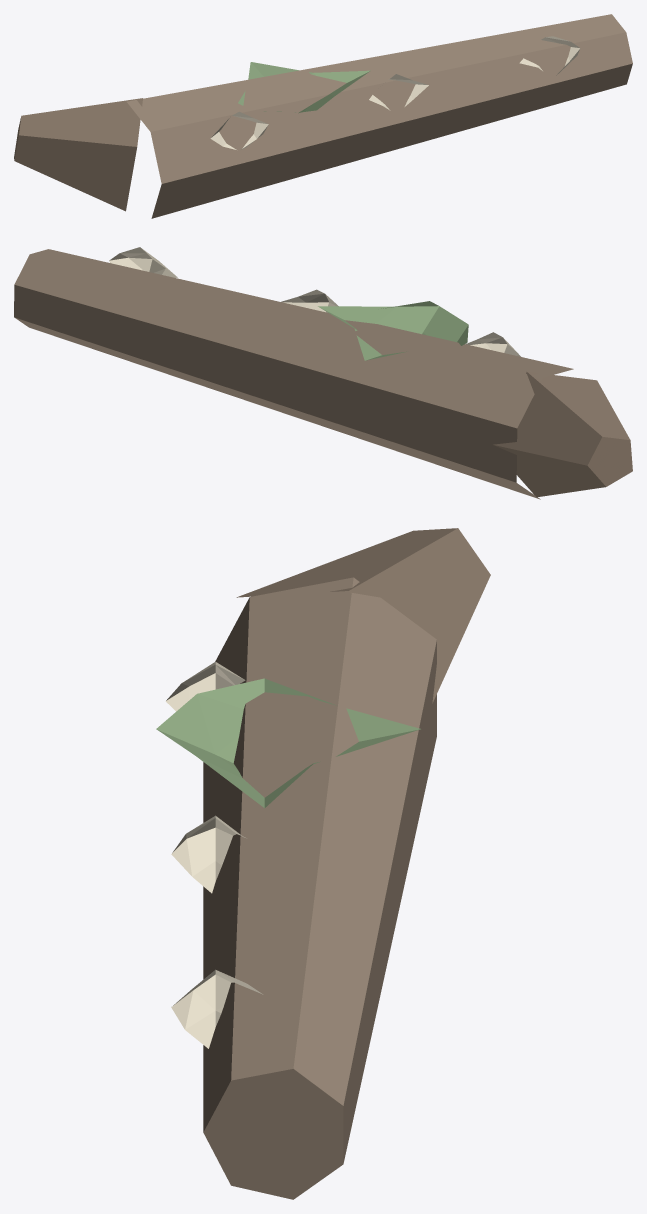
File: log_v01.glb
3 views of the same model, one above another, from view 1: azimuth 30°, elevation 25°; view 2: azimuth 150°, elevation 25°; view 3: azimuth 270°, elevation 25° (orthographic). The views are drawn at different scales.
Visible parts, largest first — view 1: lod0; view 2: lod0; view 3: lod0.
Part boxes in pixels (x1=…): lod0: x1=14, y1=14, x2=632, y2=218; lod0: x1=14, y1=247, x2=632, y2=499; lod0: x1=156, y1=528, x2=490, y2=1199.
Size of what is drawn, in the model's own units: 2.56 by 0.5238 by 0.6536.
